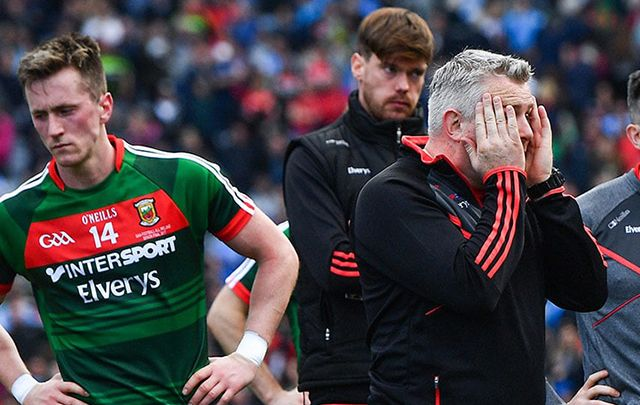player: (7, 29, 254, 396), (389, 50, 570, 399), (310, 11, 425, 341)
